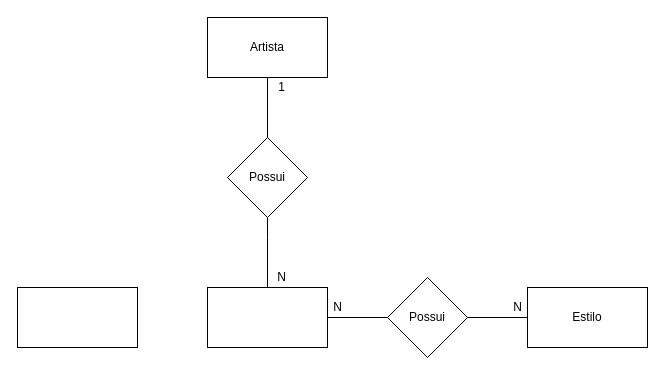
The diagram is 665 pixels wide and 375 high, and some of its shapes have lost their labels. The shapes that lost their labels are listed below. From the top down, each one's centre as x and y in pixels, then its label:
At point (77, 317): "Usuario".
At point (267, 317): "Album".
